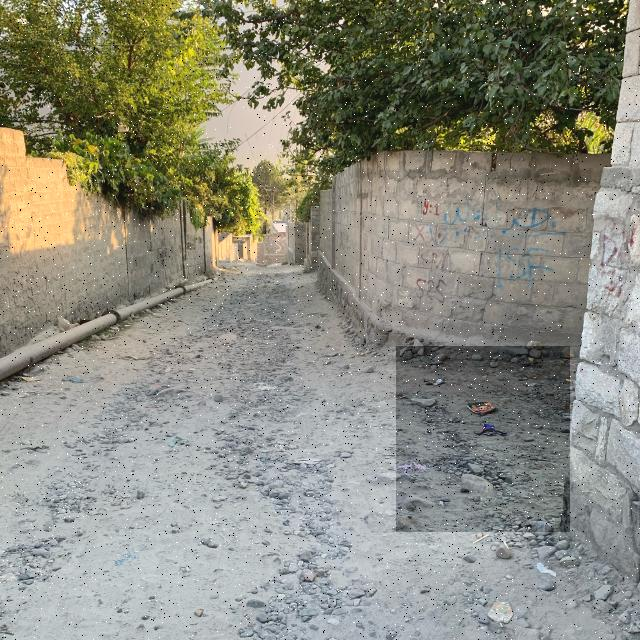right: (396, 346, 570, 532)
